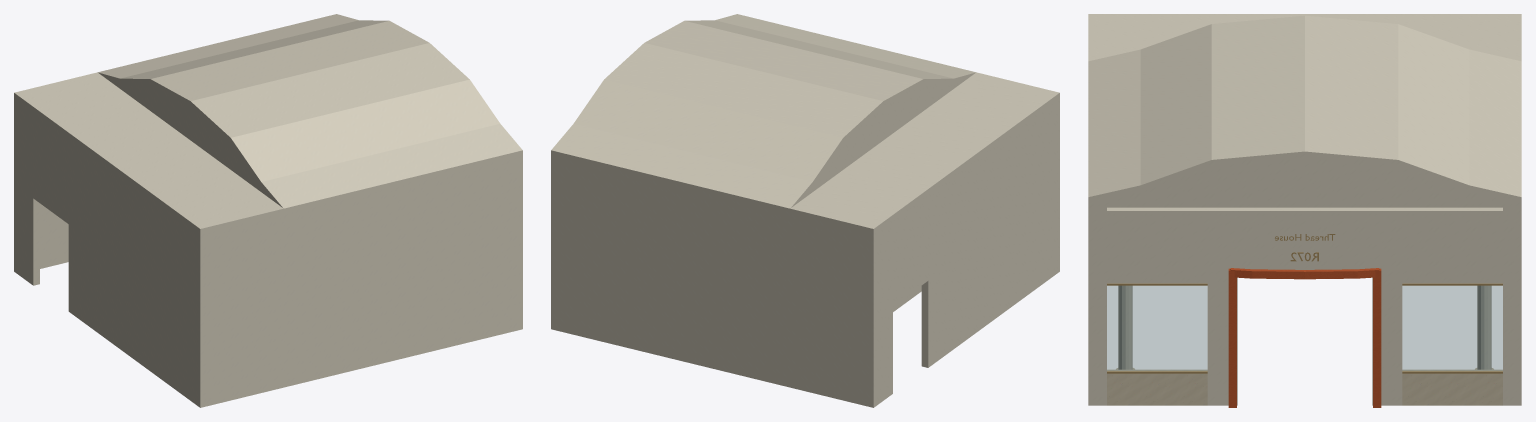
File: SHOP_D09_S72_A288__shell.glb
3 views of the same model, side by side, from view 1: azimuth 30°, elevation 25°; view 2: azimuth 150°, elevation 25°; view 3: azimuth 270°, elevation 25° (orthographic). The views are drawn at different scales.
Parts seen in each view (by area): view 1: SHOP_D09_S72_A288__shell__ivory_enamel; view 2: SHOP_D09_S72_A288__shell__ivory_enamel; view 3: SHOP_D09_S72_A288__shell__ivory_enamel, SHOP_D09_S72_A288__shell__shop_glass, SHOP_D09_S72_A288__shell__warm_stone, SHOP_D09_S72_A288__shell__retail_terracotta_enamel, SHOP_D09_S72_A288__shell__champagne_metal.
Boxes of the visible parts, x1=… form: SHOP_D09_S72_A288__shell__ivory_enamel: x1=14, y1=14, x2=522, y2=407; SHOP_D09_S72_A288__shell__ivory_enamel: x1=551, y1=14, x2=1059, y2=407; SHOP_D09_S72_A288__shell__ivory_enamel: x1=1088, y1=14, x2=1521, y2=405; SHOP_D09_S72_A288__shell__shop_glass: x1=1107, y1=286, x2=1502, y2=370; SHOP_D09_S72_A288__shell__warm_stone: x1=1107, y1=368, x2=1502, y2=405; SHOP_D09_S72_A288__shell__retail_terracotta_enamel: x1=1228, y1=268, x2=1381, y2=407; SHOP_D09_S72_A288__shell__champagne_metal: x1=1107, y1=234, x2=1502, y2=373.
Size of the model in its own units: 11.86 by 7.5 by 11.6.
Materials: 6 (4 with a texture image).
